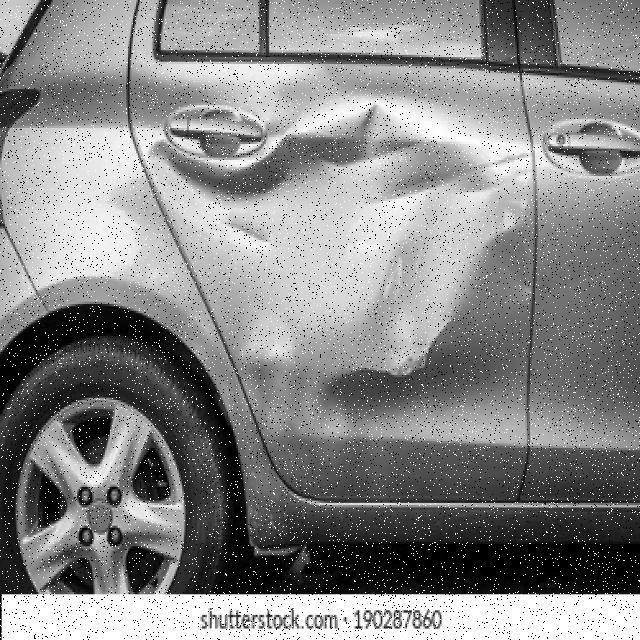doorouter-dent: (211, 64, 526, 425)
